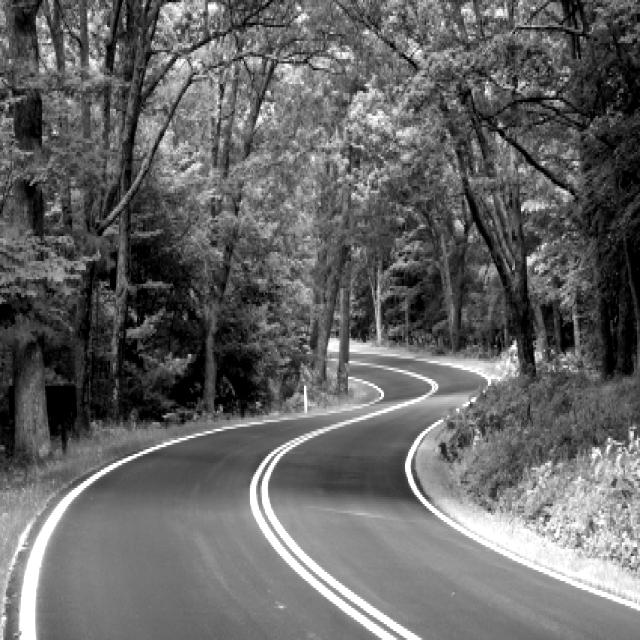cleat: (157, 297, 528, 640)
